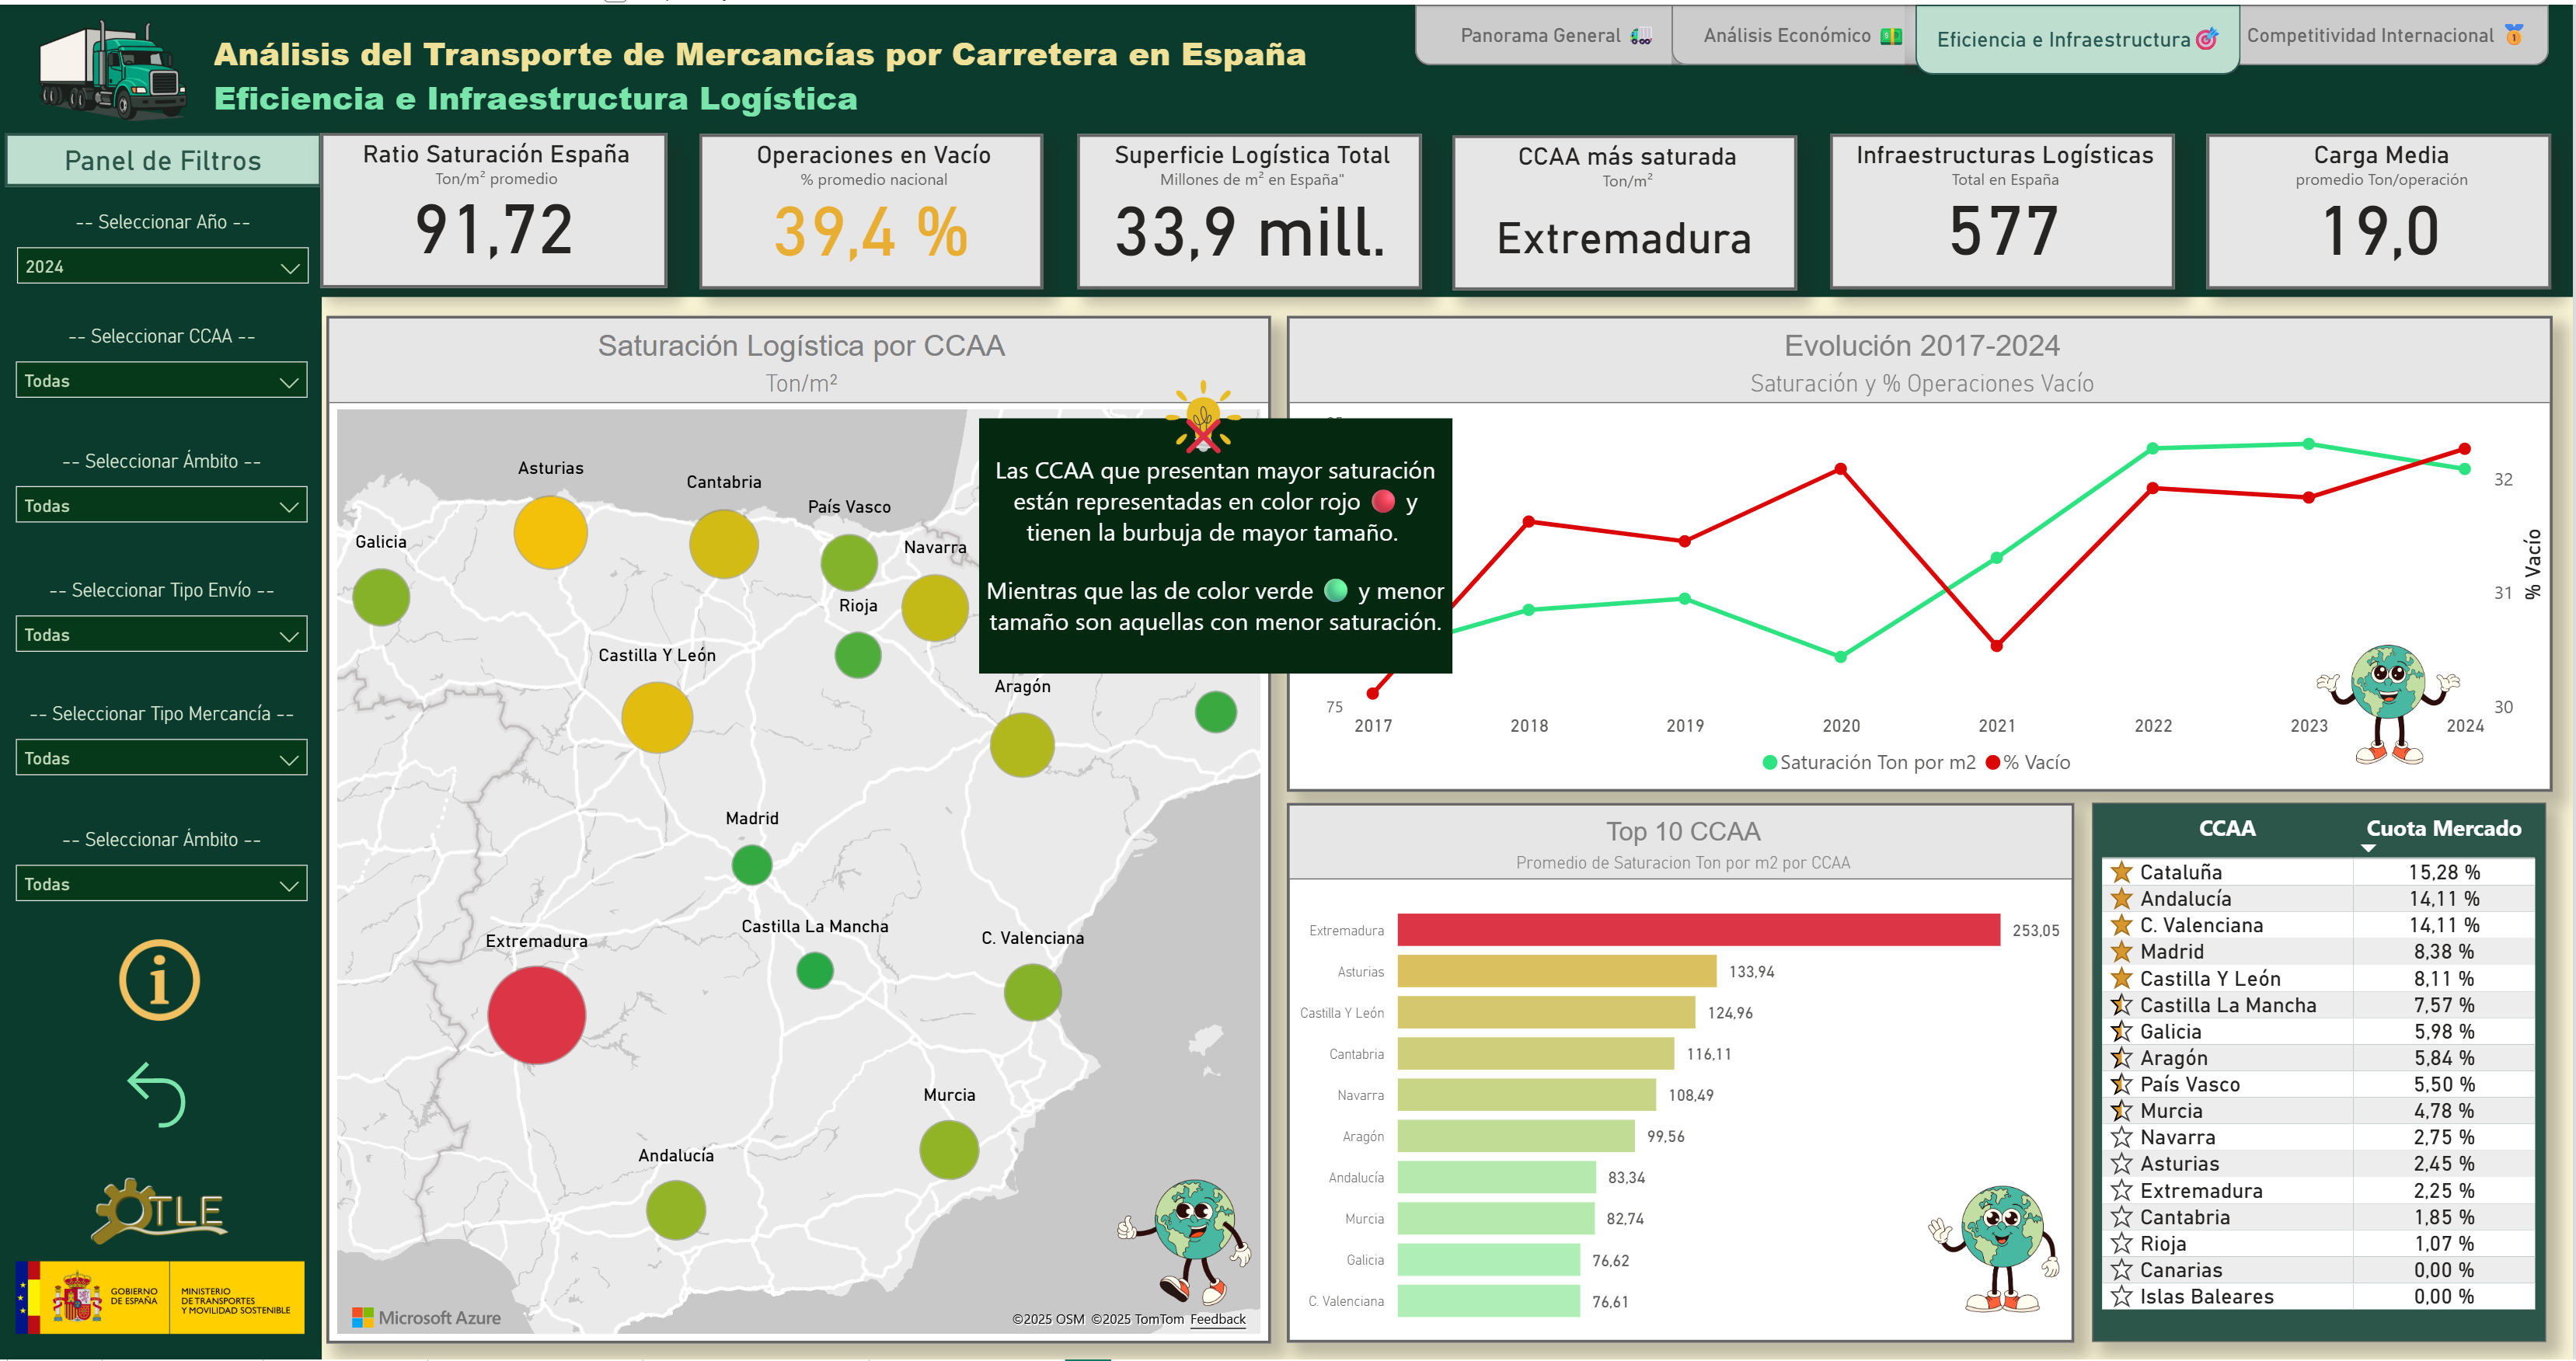

The dashboard page shown, as its layout file describes it:
{"tool":"powerbi","page":{"name":"Eficiencia e Infraestructura","canvas":[1747,920],"ordinal":3},"visuals":[{"type":"group","id":"g1","title":"Panel diseño","box":[0,0,1747,919.7],"z":0},{"type":"shape","box":[0,0,1747,198.6],"z":0,"group":"g1"},{"type":"shape","box":[0,81.2,218.5,838.5],"z":1000,"group":"g1"},{"type":"cardVisual","title":"Infraestructuras Logísticas","fields":{"Data":["Medidas Eficiencia e Infraestructura.Tipos Infraestructura"]},"box":[1242.3,87.8,234.2,105],"z":1000},{"type":"textbox","box":[140.3,12.6,782.4,71],"z":2000,"group":"g1"},{"type":"image","title":"Info Pag 3","box":[75.5,626.8,65.6,71],"z":2000},{"type":"slicer","title":"-- Seleccionar Año --","fields":{"Values":["Dim Año.Año"]},"box":[1.8,140.1,218,63.9],"z":3000},{"type":"slicer","title":"-- Seleccionar CCAA --","fields":{"Values":["CCAA Dim.CCAA"]},"box":[0.9,218,218,63],"z":4000},{"type":"slicer","title":"-- Seleccionar Ámbito --","fields":{"Values":["Tipo Envio Dim.Ámbito"]},"box":[0.9,302,218,63.9],"z":5000},{"type":"slicer","title":"-- Seleccionar Tipo Envío --","fields":{"Values":["Tipo Envio Dim.Tipo Envío"]},"box":[1,390.4,218,63.9],"z":6000},{"type":"textbox","box":[3.2,87,215.2,36.4],"z":7000},{"type":"cardVisual","title":"Ratio Saturación España","fields":{"Data":["Avg(KPI Saturación Logística.Saturacion Ton por m2)"]},"box":[217.6,87,235,105],"z":8000},{"type":"cardVisual","title":"Operaciones en Vacío","fields":{"Data":["Medidas Eficiencia e Infraestructura.Promedio Op Vacio (%)"]},"box":[474.8,87.8,233.4,105],"z":9000},{"type":"cardVisual","title":"Superficie Logística Total","fields":{"Data":["Sum(KPI Saturación Logística.Superficie m2)"]},"box":[731.2,87.8,234.2,105],"z":10000},{"type":"cardVisual","title":"CCAA más saturada","fields":{"Data":["Min(Dim CCAA.CCAA)"]},"box":[985.9,88.6,234.2,105],"z":11000},{"type":"slicer","title":"-- Seleccionar Tipo Mercancía --","fields":{"Values":["Dim Infraestructuras.Tipo Infraestructura"]},"box":[0.9,473.6,218,63],"z":13000},{"type":"azureMap","title":"Saturación Logística por CCAA","fields":{"Category":["Dim CCAA.CCAA","C0516 Infraestructuras Logísticas.Provincia"],"Size":["Avg(KPI Saturación Logística.Saturacion Ton por m2)"]},"box":[221.6,211.2,641.2,697.8],"z":14000},{"type":"shape","box":[1512.6,0,218.2,41.2],"z":15000},{"type":"shape","box":[960.6,0,194.7,41.1],"z":16000},{"type":"shape","box":[1134.7,0,181.2,41.1],"z":17000},{"type":"image","box":[4,846.7,208.9,62.5],"z":18000},{"type":"image","box":[6.3,791.4,204.1,55.8],"z":19000},{"type":"actionButton","box":[77.3,711.3,65.6,57.6],"z":20000},{"type":"shape","box":[1293,0,227.9,47.5],"z":21000},{"type":"cardVisual","title":"Carga Media","fields":{"Data":["Medidas Eficiencia e Infraestructura.Carga media por op"]},"box":[1497.9,87.8,234.2,105],"z":22000},{"type":"lineChart","title":"Evolución 2017-2024","fields":{"Category":["Dim Año.Año"],"Y":["Avg(KPI Saturación Logística.Saturacion Ton por m2)"],"Y2":["Avg(C0285 Operaciones Vacío.% Vacío)"]},"box":[873.6,211.3,859.3,323.6],"z":23000},{"type":"clusteredBarChart","title":"Top 10 CCAA","fields":{"Category":["Dim CCAA.CCAA"],"Y":["Avg(KPI Saturación Logística.Saturacion Ton por m2)"]},"box":[873.2,542.2,534.7,366.8],"z":24000},{"type":"slicer","title":"-- Seleccionar Ámbito --","fields":{"Values":["Dim Infraestructuras.Funcion"]},"box":[1,559.4,218,63.9],"z":25000},{"type":"tableEx","fields":{"Values":["Dim CCAA.CCAA","KPI Cuota Mercado CCAA.Cuota Mercado"]},"box":[1420.4,542,307.8,366],"z":26000},{"type":"image","box":[1567.5,415.4,107.6,119.5],"z":29000},{"type":"image","box":[9.9,0,133.1,86.3],"z":31000},{"type":"image","box":[1303.3,796.8,100.5,99.7],"z":34000},{"type":"image","box":[752.5,791.3,102.1,99.7],"z":35000},{"type":"image","box":[777.9,211.3,70.1,62.9],"z":37000}]}

Visuals, with their boxes in screenshot pixels (x1, y1, x2, y2), scaled from the page's 1747x920 canvas onto the 2576x1361 screenshot:
"Panel diseño" group: bbox=(0, 0, 2575, 1360)
shape: bbox=(0, 0, 2575, 294)
shape: bbox=(0, 120, 322, 1360)
"Infraestructuras Logísticas" cardVisual: bbox=(1832, 130, 2177, 285)
textbox: bbox=(207, 19, 1361, 124)
"Info Pag 3" image: bbox=(111, 928, 208, 1032)
"-- Seleccionar Año --" slicer: bbox=(2, 207, 324, 301)
"-- Seleccionar CCAA --" slicer: bbox=(2, 322, 322, 416)
"-- Seleccionar Ámbito --" slicer: bbox=(2, 447, 322, 541)
"-- Seleccionar Tipo Envío --" slicer: bbox=(2, 577, 323, 672)
textbox: bbox=(5, 129, 322, 183)
"Ratio Saturación España" cardVisual: bbox=(321, 129, 668, 284)
"Operaciones en Vacío" cardVisual: bbox=(700, 130, 1044, 285)
"Superficie Logística Total" cardVisual: bbox=(1078, 130, 1424, 285)
"CCAA más saturada" cardVisual: bbox=(1454, 131, 1799, 287)
"-- Seleccionar Tipo Mercancía --" slicer: bbox=(2, 701, 322, 794)
"Saturación Logística por CCAA" azureMap: bbox=(326, 312, 1272, 1345)
shape: bbox=(2230, 0, 2552, 61)
shape: bbox=(1417, 0, 1703, 61)
shape: bbox=(1673, 0, 1940, 61)
image: bbox=(6, 1252, 314, 1345)
image: bbox=(9, 1171, 310, 1253)
actionButton: bbox=(114, 1053, 211, 1137)
shape: bbox=(1907, 0, 2243, 70)
"Carga Media" cardVisual: bbox=(2208, 130, 2554, 285)
"Evolución 2017-2024" lineChart: bbox=(1288, 312, 2555, 792)
"Top 10 CCAA" clusteredBarChart: bbox=(1288, 802, 2076, 1345)
"-- Seleccionar Ámbito --" slicer: bbox=(2, 827, 323, 922)
tableEx - Dim CCAA.CCAA x KPI Cuota Mercado CCAA.Cuota Mercado: bbox=(2094, 802, 2548, 1343)
image: bbox=(2311, 614, 2470, 792)
image: bbox=(15, 0, 211, 127)
image: bbox=(1922, 1178, 2070, 1326)
image: bbox=(1110, 1171, 1260, 1318)
image: bbox=(1147, 312, 1250, 406)
